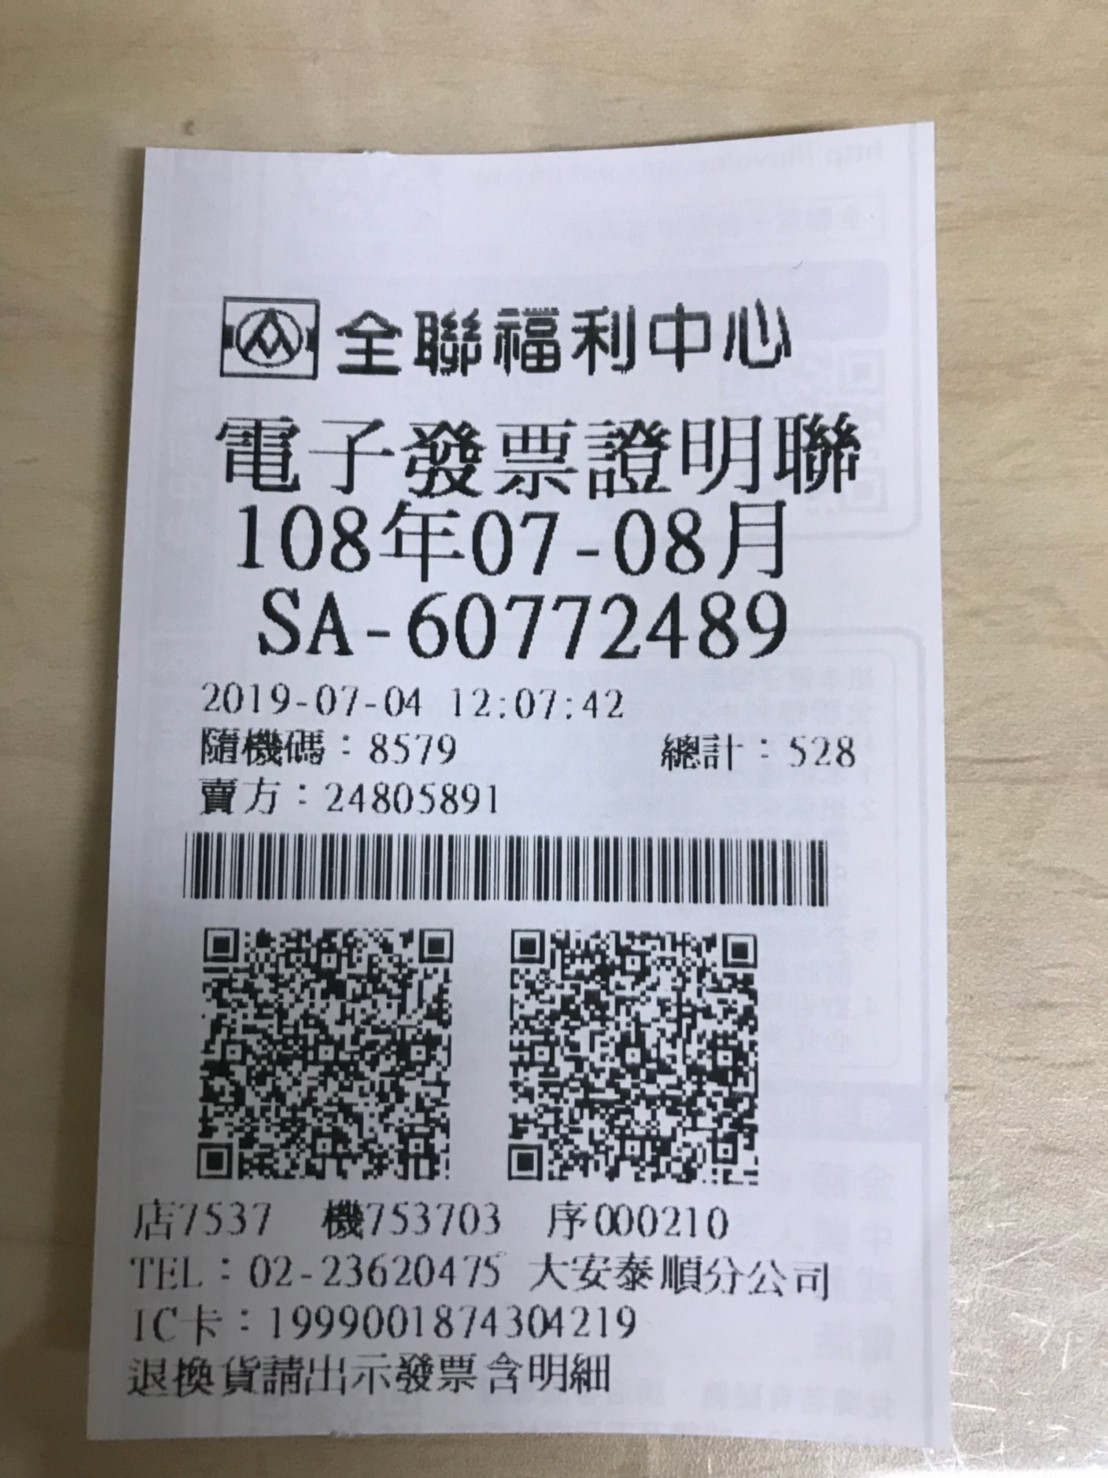Date_New: (236, 498, 788, 585)
Number_New: (405, 591, 794, 667)
